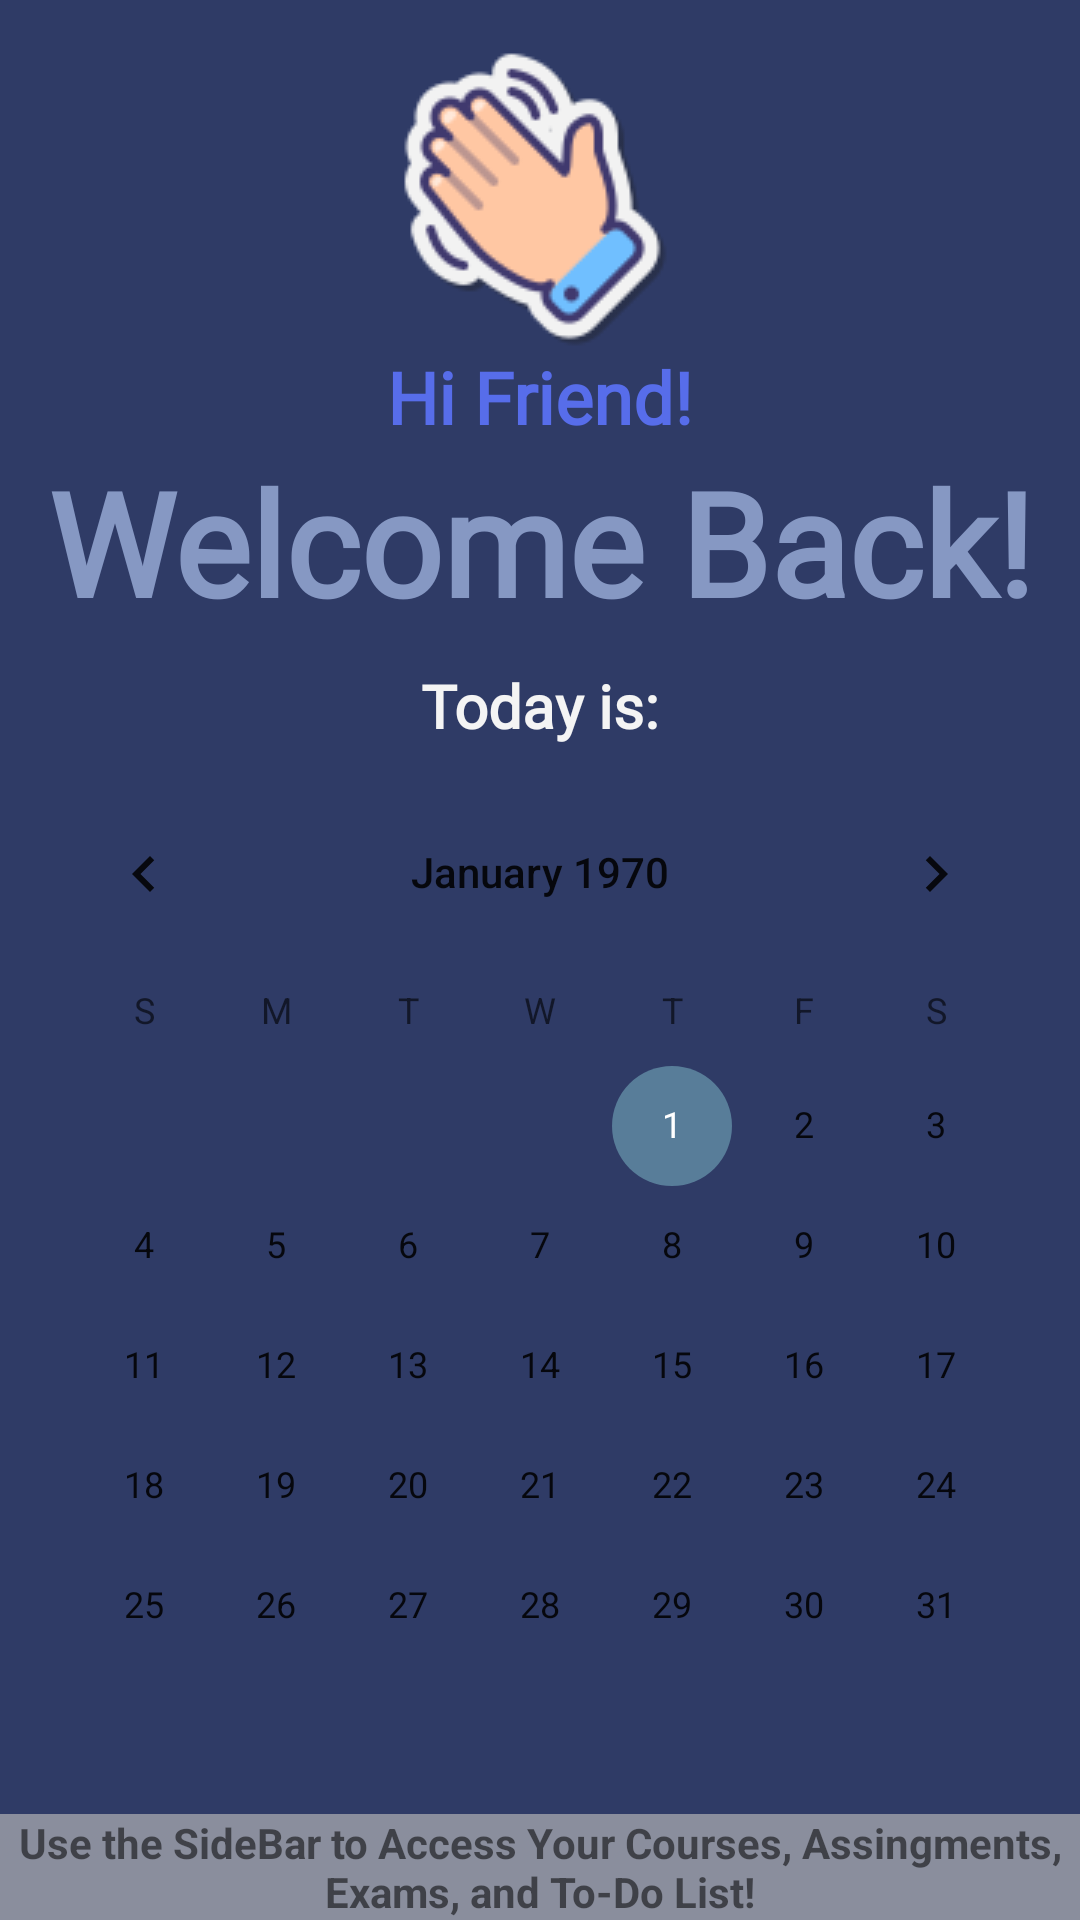

Icons on this 1080 × 1920 Android screen, each with its box as (x1, y1, x2, y2):
waving hand: (404, 53, 662, 341)
